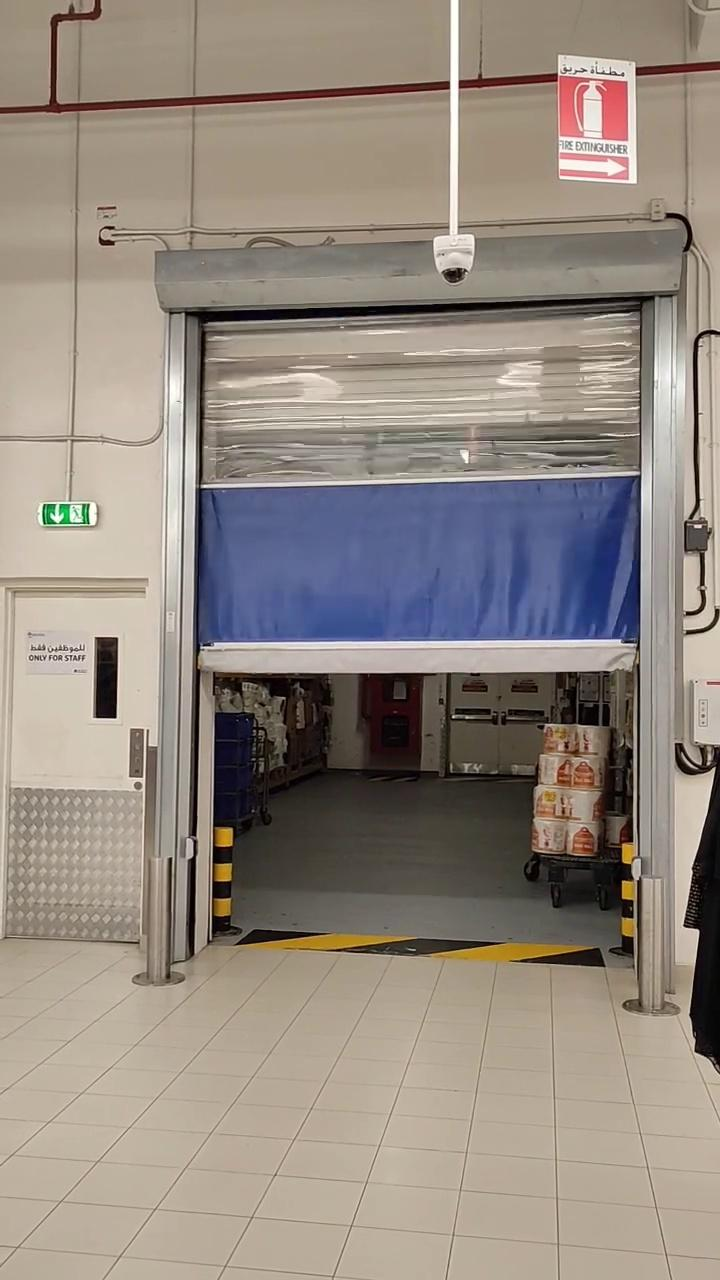Strip: (243, 923, 607, 971)
